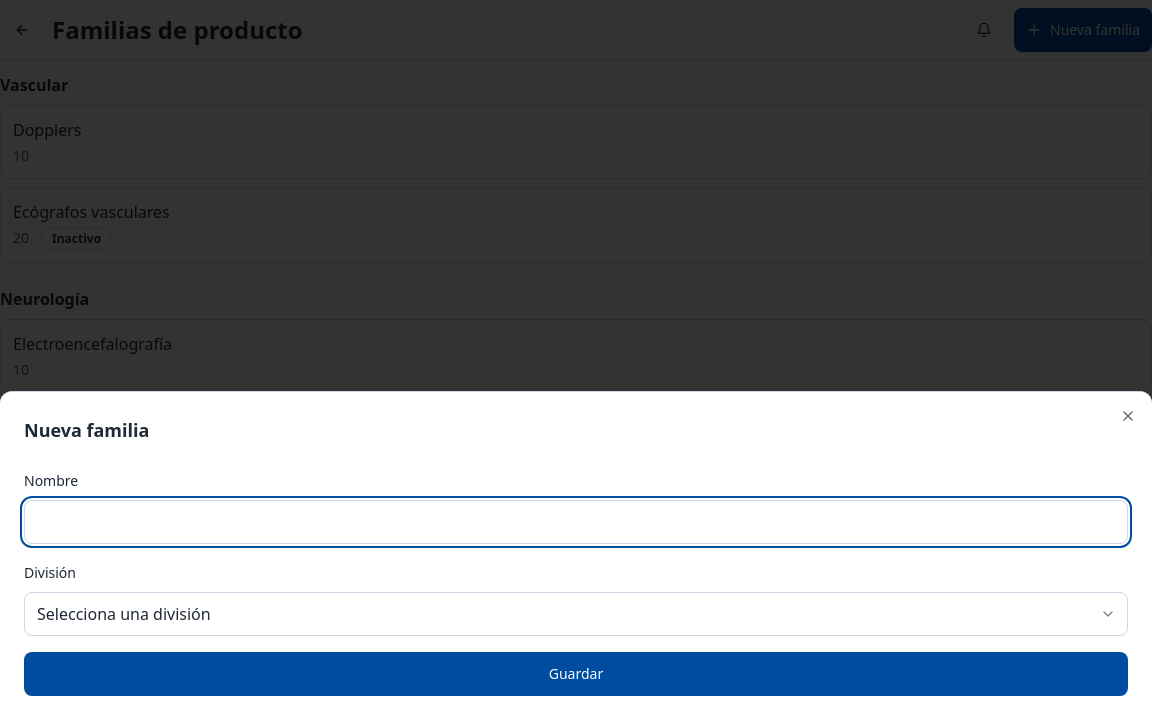
Test: ProductFamilyListPage › creates a family in a division and refreshes the bundle
Step 1. Type "Láser" into the field labelled "Nombre" → (576, 522), box [24,500,1128,544]
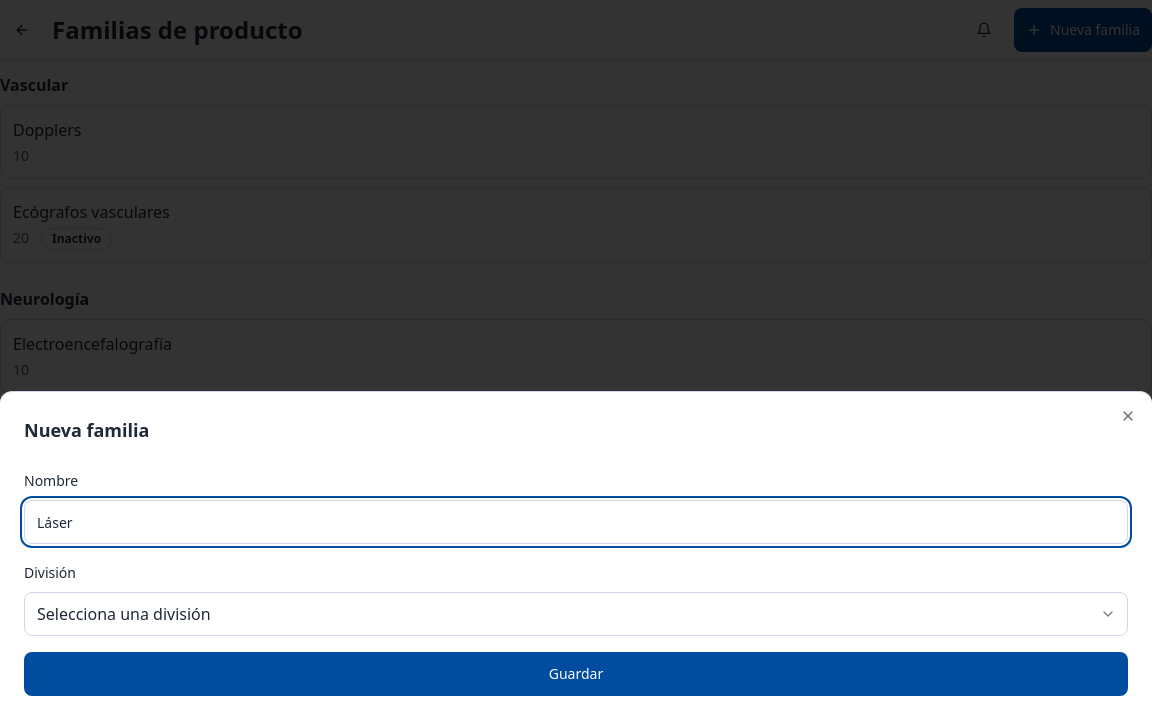
Step 2. Select "Vascular" in the dropdown labelled "División" → (576, 614), box [24,592,1128,636]
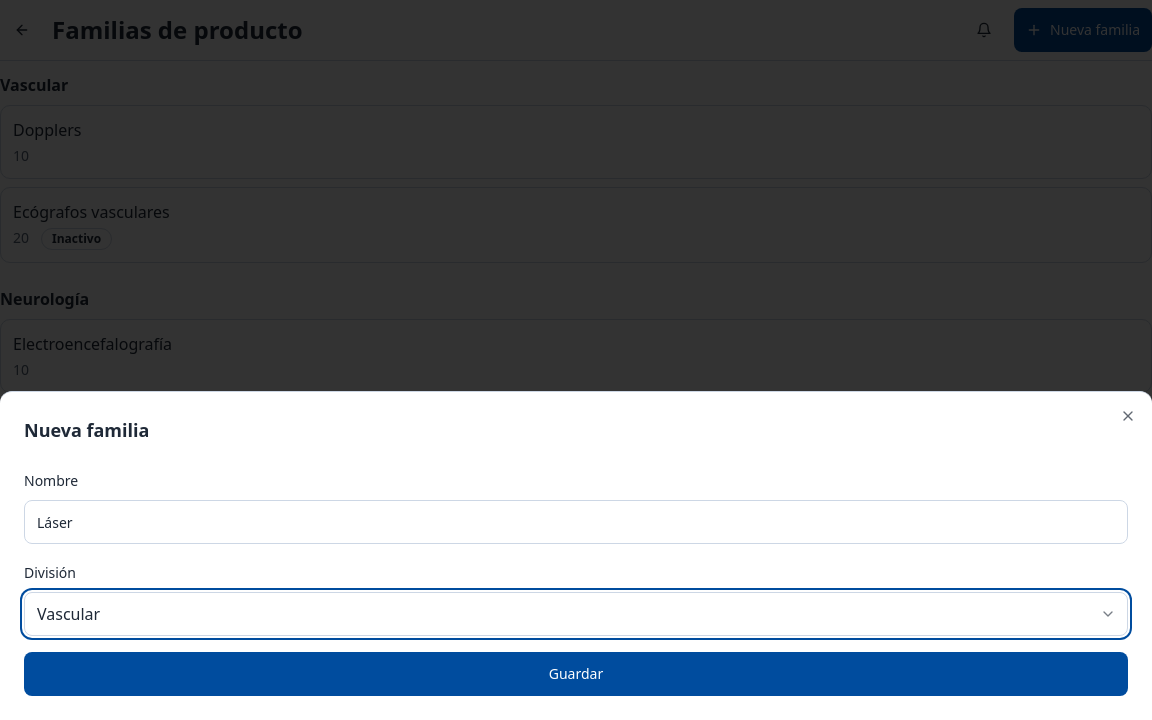
Step 3. Click the button "Guardar" → (576, 674), box [24,652,1128,696]
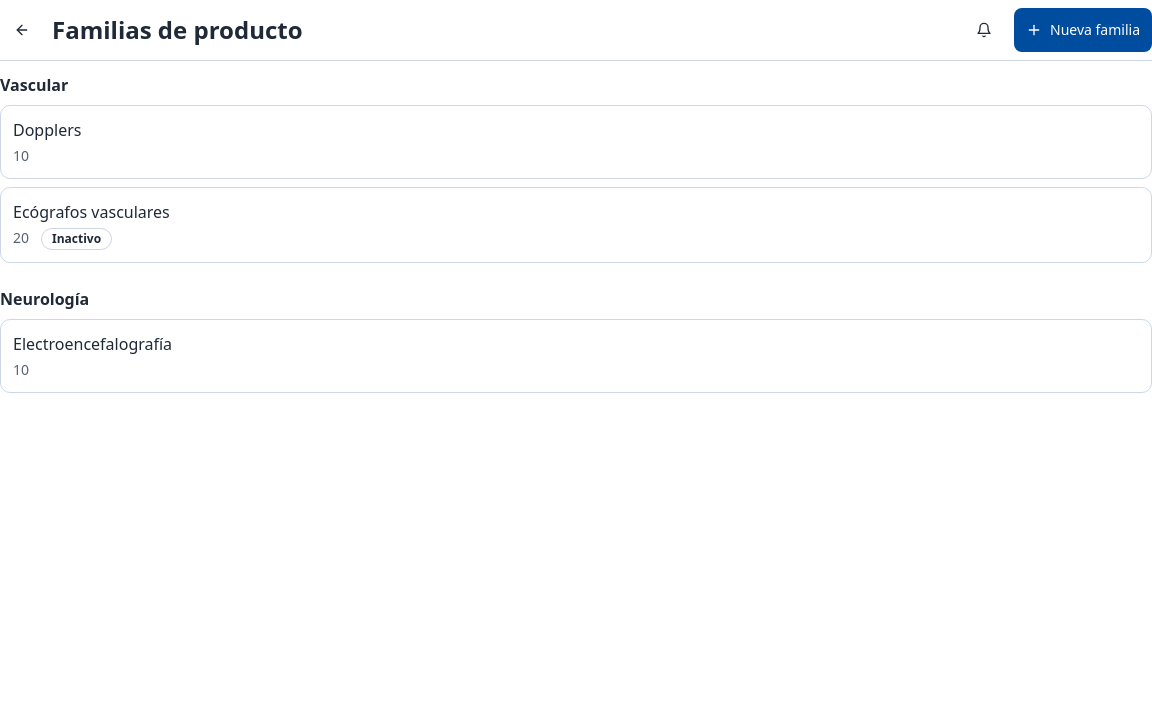
Result: the dialog is gone
